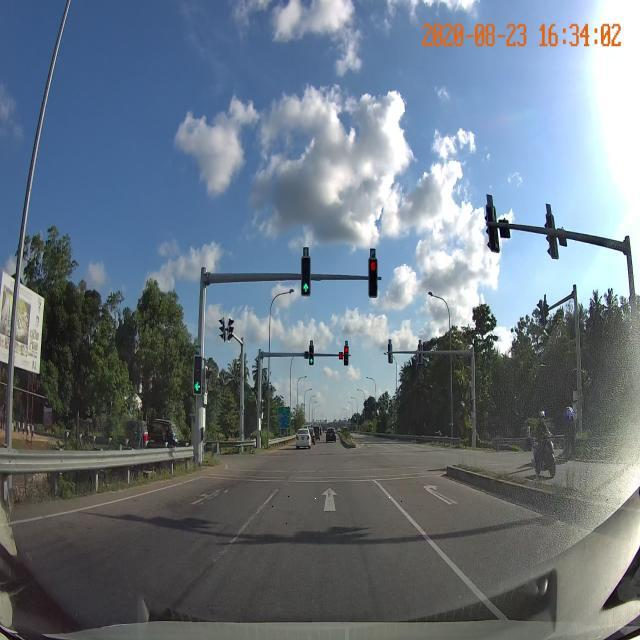forward: (237, 483, 426, 536)
